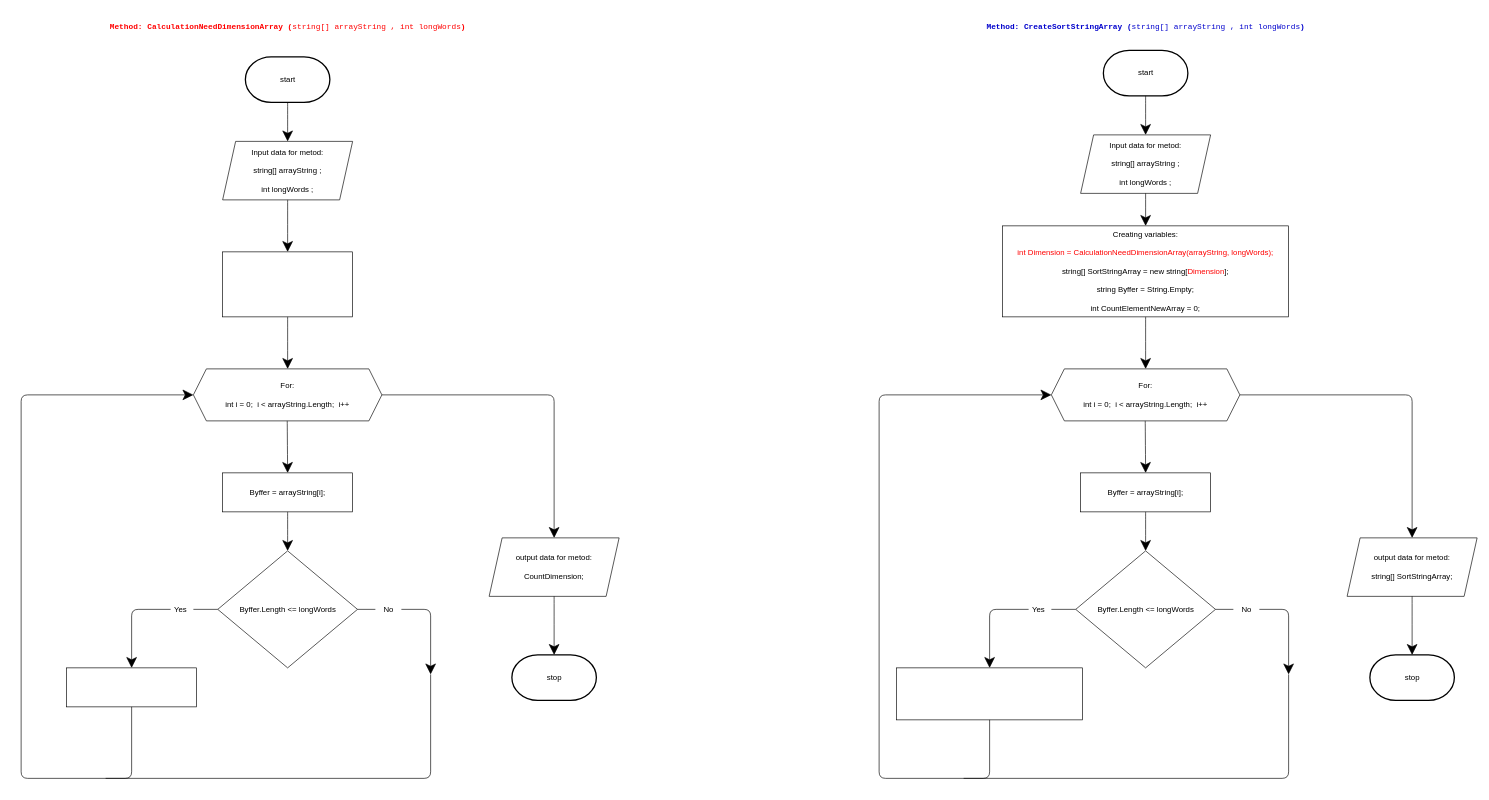
The diagram is 1489 pixels wide and 800 high, and some of its shapes have lost their labels. Here are the shapes that lost their labels. From the top down, the centre of each, then its label:
(287,284): Creating variables: string Byffer = String.Empty; int CountDimension = 0;
(131,687): CountDimension++;
(989,693): SortStringArray[CountElementNewArray] = Byffer; CountElementNewArray++;
